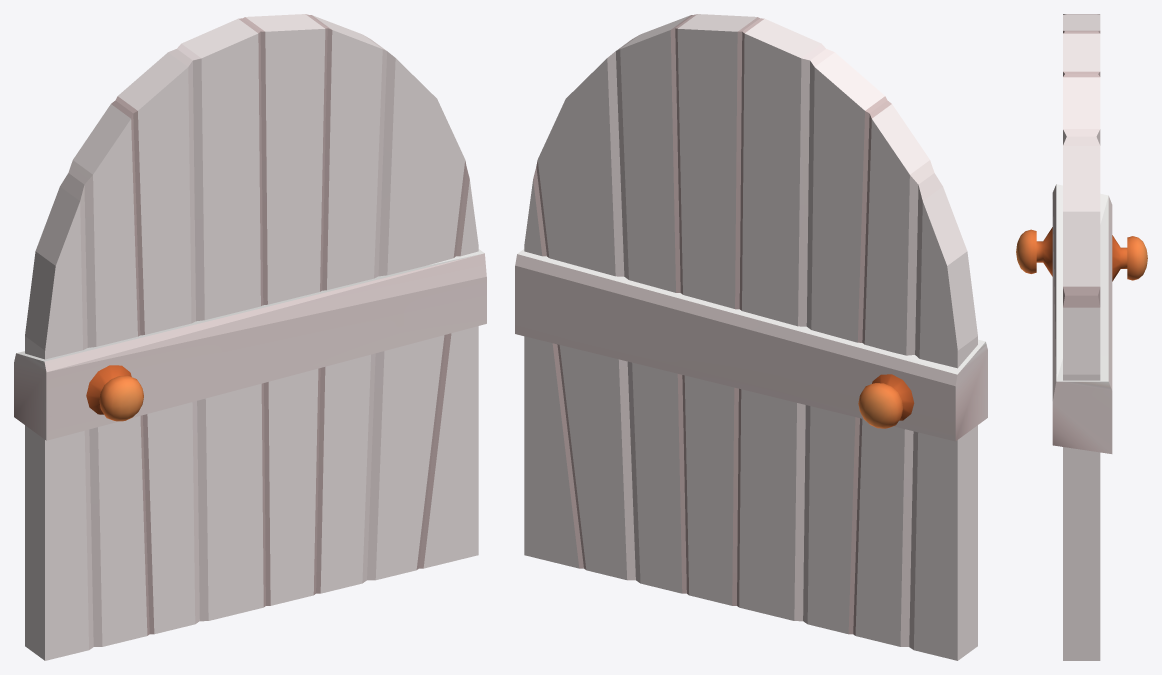
File: Doll_Room_Door_002.fbx
3 views of the same model, side by side, from view 1: azimuth 30°, elevation 25°; view 2: azimuth 150°, elevation 25°; view 3: azimuth 270°, elevation 25° (orthographic). The views are drawn at different scales.
Parts seen in each view (by area): view 1: Doll_Room_Door_002; view 2: Doll_Room_Door_002; view 3: Doll_Room_Door_002.
Boxes of the visible parts, bbox=[...] form: Doll_Room_Door_002: bbox=[14, 14, 486, 660]; Doll_Room_Door_002: bbox=[515, 14, 987, 660]; Doll_Room_Door_002: bbox=[1016, 14, 1147, 660].
Bounding box in the file's own units: 29.29 × 36.6 × 8.23.
Materials: 1 (1 with a texture image).
